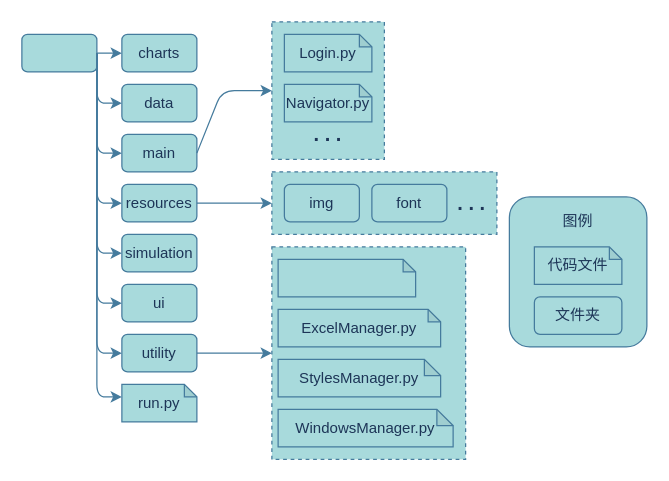
Image size: 669x481. Some labels were removed from this diagram. The shapes that lost their labels are listed below. From the top down, each one's centre as x and y in pixels, then its label:
the point at 59,52: CEESS
the point at 346,277: DataManager.py
